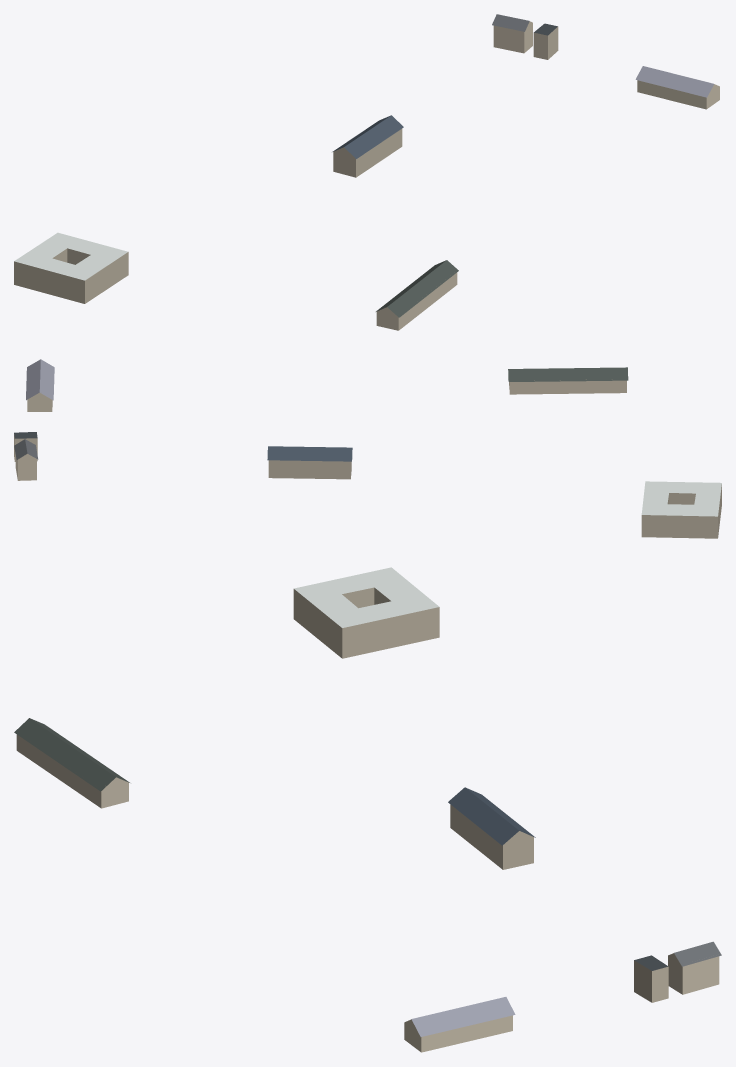
3 renders of one model, top to bottom at view 1: azimuth 30°, elevation 25°; view 2: azimuth 150°, elevation 25°; view 3: azimuth 270°, elevation 25°, orthographic. The views are drawn at different scales.
Visible parts, largest first — view 1: tuile; view 2: tuile; view 3: tuile.
Boxes of the visible parts, bbox=[...] form: tuile: bbox=[14, 14, 719, 330]; tuile: bbox=[14, 359, 721, 538]; tuile: bbox=[14, 567, 721, 1052].
Size of the model in its own units: 209 by 8.98 by 137.
